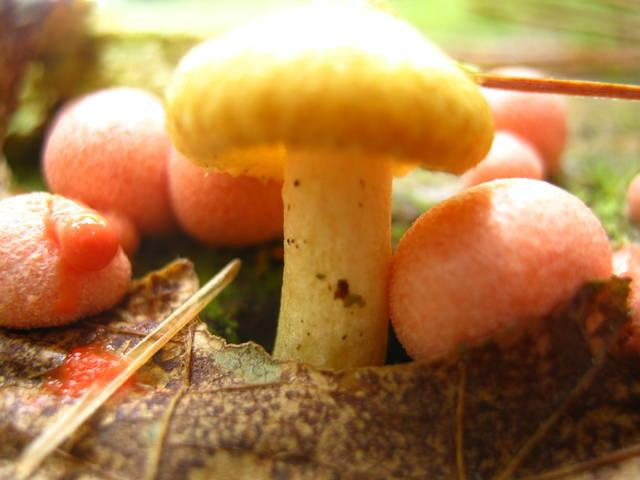poisonous_mushroom: (163, 0, 495, 369), (387, 175, 613, 362), (0, 189, 132, 329)
